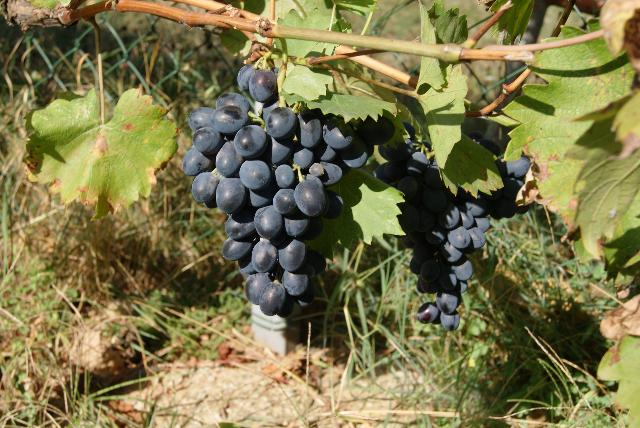grapes: (182, 92, 390, 318), (375, 139, 530, 331)
